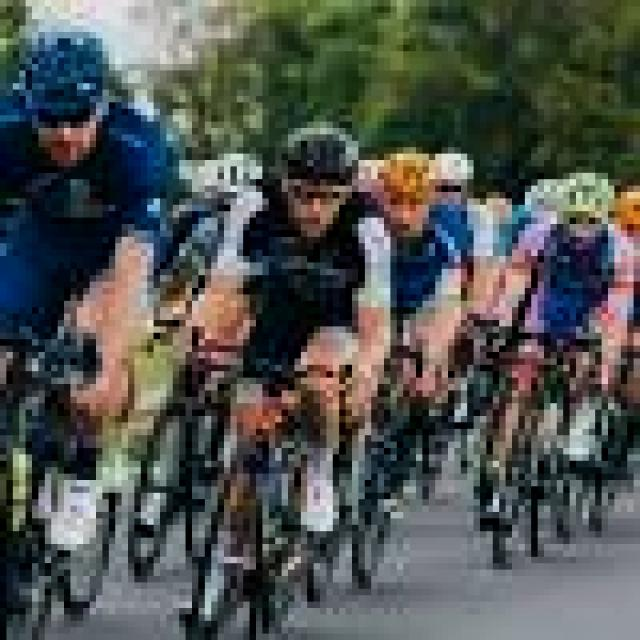helmet: (11, 31, 139, 146), (284, 130, 366, 183)
